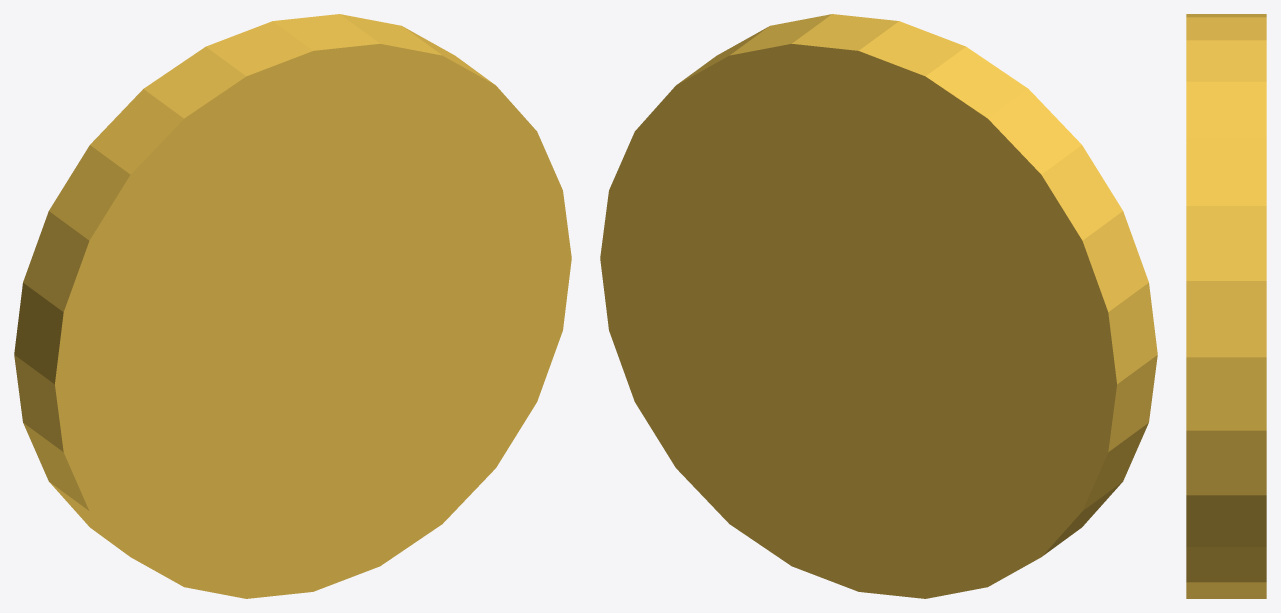
The model's file is coin.glb.
The picture shows the model from 3 angles, left to right: view 1: azimuth 30°, elevation 25°; view 2: azimuth 150°, elevation 25°; view 3: azimuth 270°, elevation 25°; orthographic projection.
Parts seen in each view (by area): view 1: Cylinder; view 2: Cylinder; view 3: Cylinder.
Part boxes in pixels (x1,y1,x2,y2): Cylinder: (14,14,571,598); Cylinder: (600,14,1157,598); Cylinder: (1186,14,1266,598).
Bounding box in the file's own units: 0.66 × 0.66 × 0.09.
